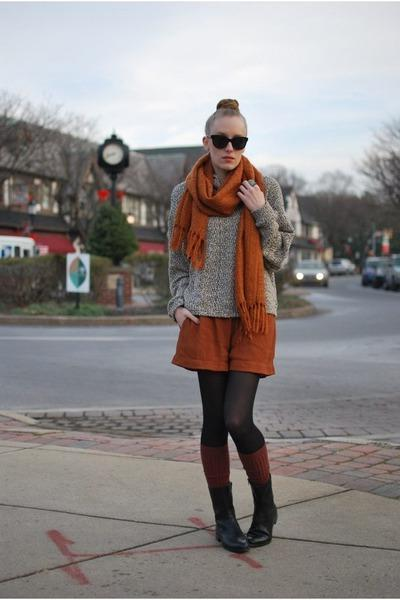Shorts: (167, 310, 286, 373)
sweater: (164, 170, 299, 322)
